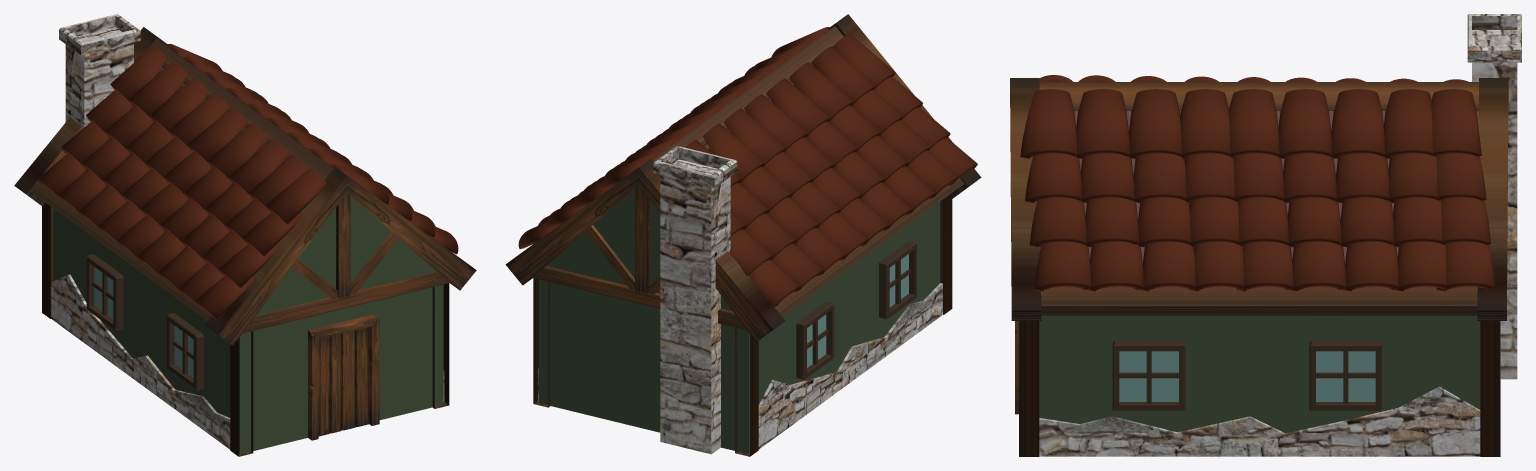
The model's file is SM_House_004.fbx.
3 renders of one model, left to right at view 1: azimuth 30°, elevation 25°; view 2: azimuth 150°, elevation 25°; view 3: azimuth 270°, elevation 25°, orthographic. The views are drawn at different scales.
Parts seen in each view (by area): view 1: Plane.005; view 2: Plane.005; view 3: Plane.005.
Boxes of the visible parts, box(x1,y1,x2,y2) form: Plane.005: box(14, 14, 476, 456); Plane.005: box(505, 14, 981, 456); Plane.005: box(1010, 14, 1521, 456).
Bounding box in the file's own units: 466 × 463 × 644.
